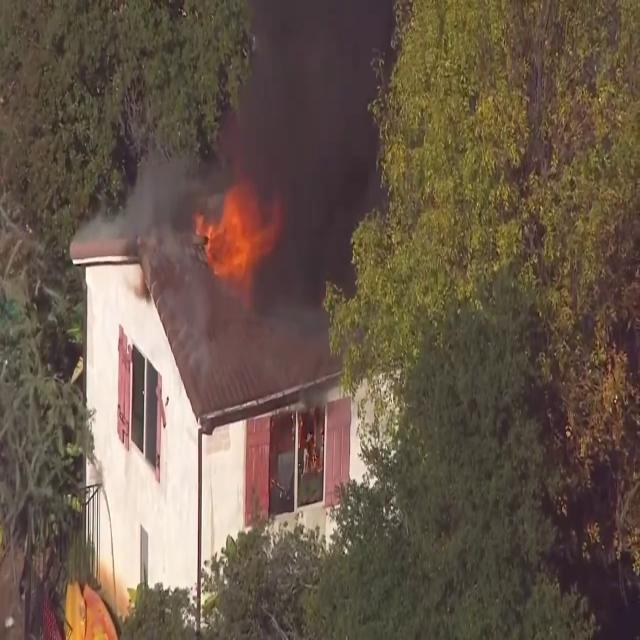Fire: (194, 178, 274, 283)
Smoke: (216, 0, 394, 279)
